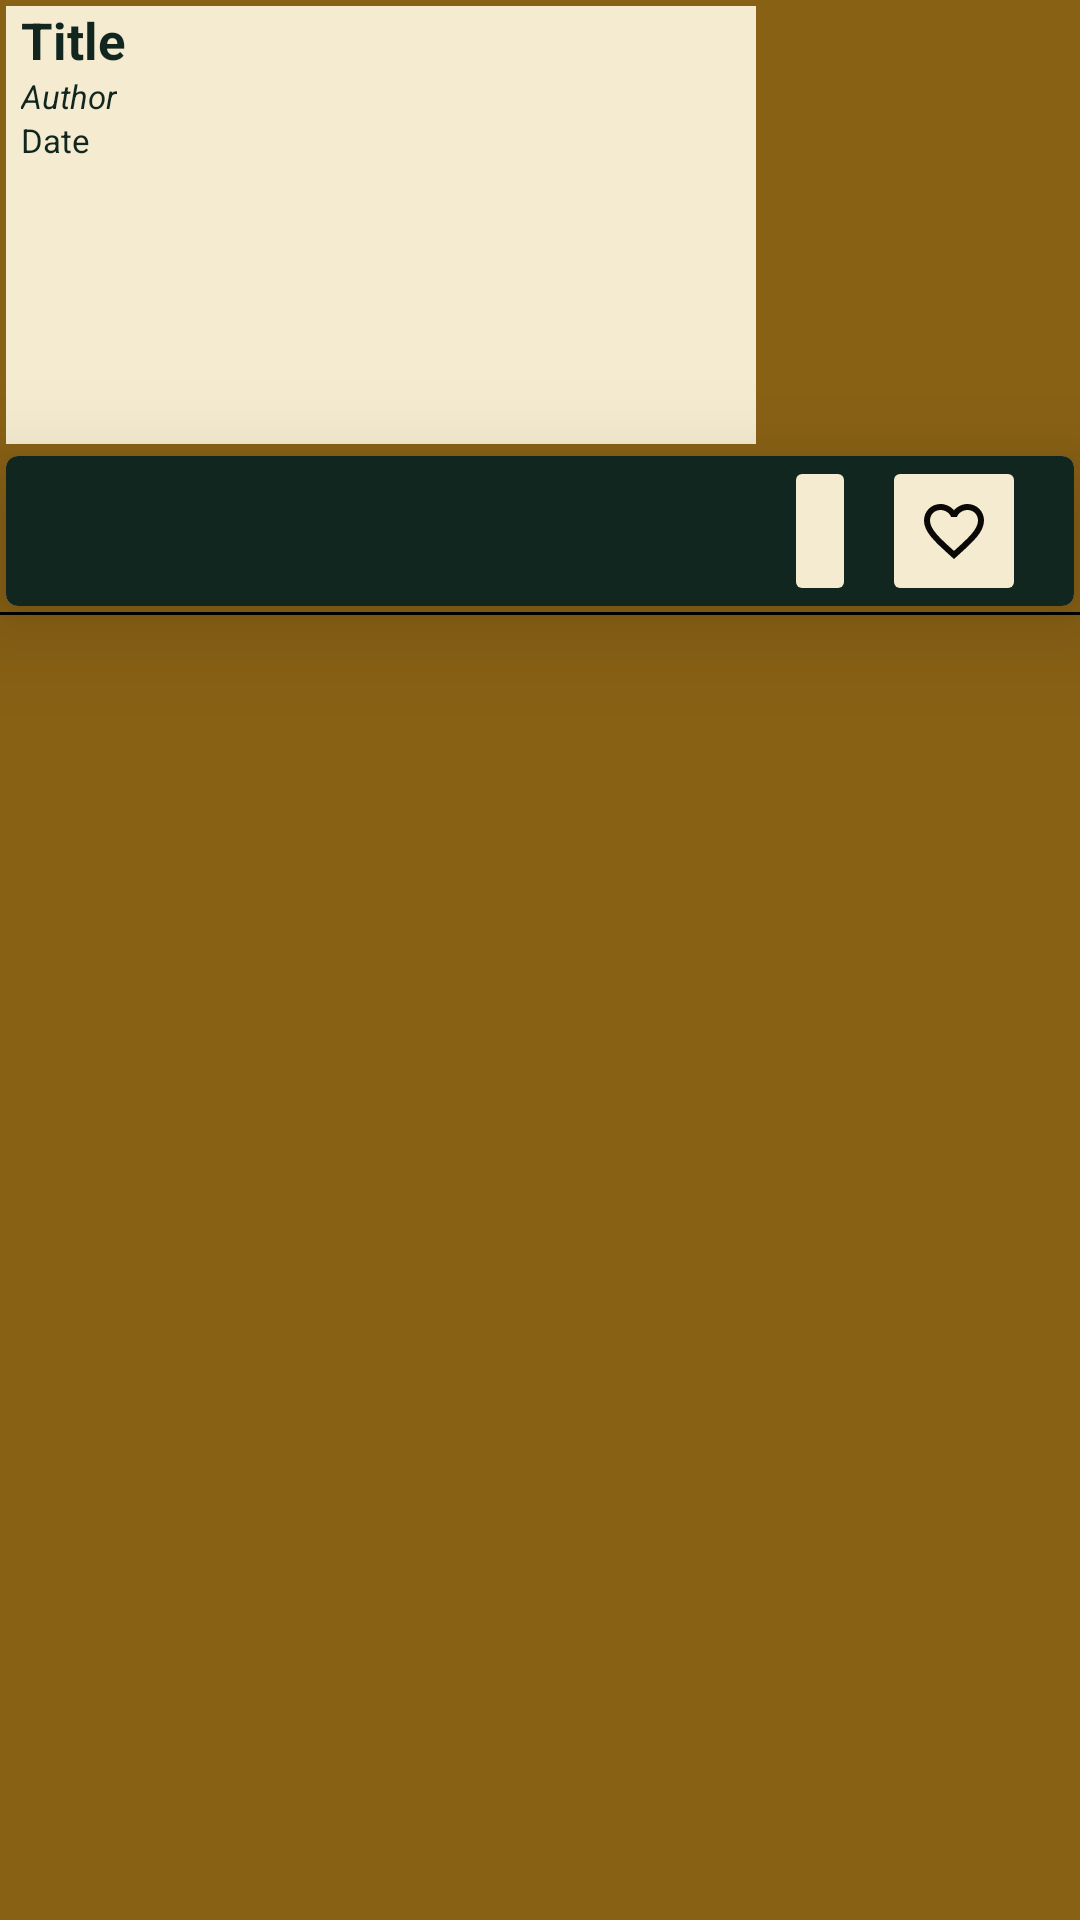

Icon click points for this 1080w x 1920h phone screenshot, format point (x, y):
Favourites: point (954, 531)
